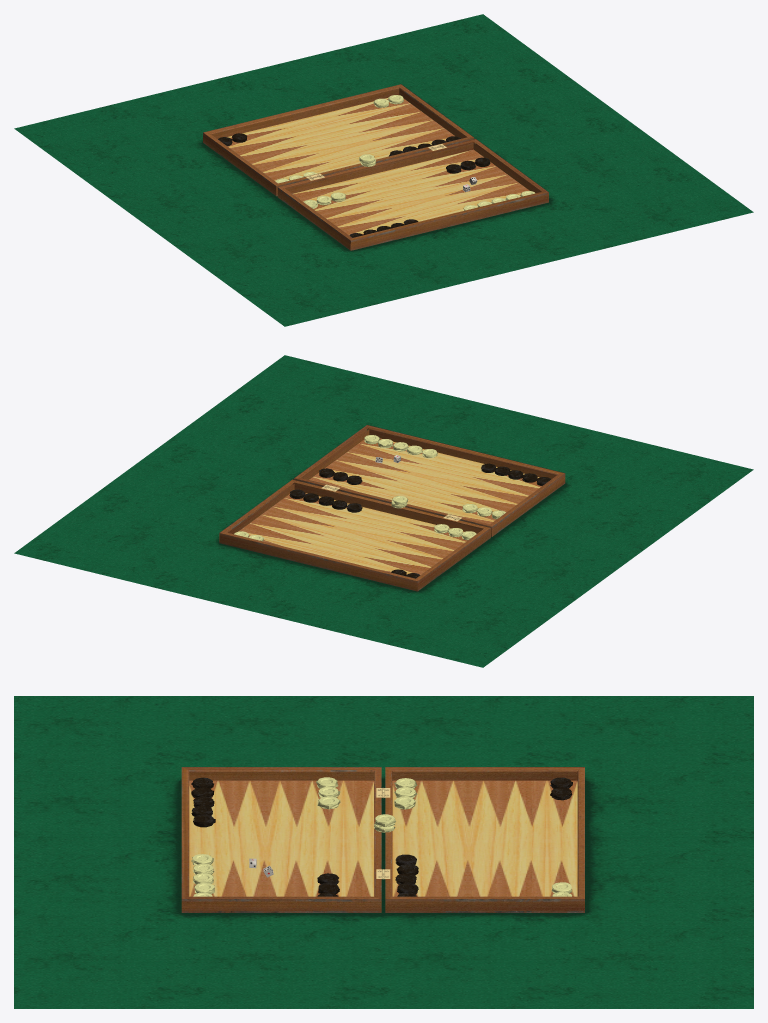
Rendered from backgammon.glb.
3 renders of one model, top to bottom at view 1: azimuth 30°, elevation 25°; view 2: azimuth 150°, elevation 25°; view 3: azimuth 270°, elevation 25°, orthographic. The views are drawn at different scales.
Parts seen in each view (by area): view 1: defaultMaterial.005, defaultMaterial.004, defaultMaterial.002, defaultMaterial.003; view 2: defaultMaterial.005, defaultMaterial.004, defaultMaterial.003, defaultMaterial.002; view 3: defaultMaterial.005, defaultMaterial.004, defaultMaterial.003, defaultMaterial.002.
Boxes of the visible parts, x1,y1,x2,y2 form: defaultMaterial.005: (14, 14, 753, 326); defaultMaterial.004: (203, 84, 548, 250); defaultMaterial.002: (275, 95, 535, 210); defaultMaterial.003: (218, 133, 490, 237); defaultMaterial.005: (14, 355, 753, 667); defaultMaterial.004: (219, 425, 565, 591); defaultMaterial.003: (289, 463, 551, 578); defaultMaterial.002: (234, 435, 505, 541); defaultMaterial.005: (14, 696, 753, 1008); defaultMaterial.004: (181, 767, 584, 912); defaultMaterial.003: (191, 777, 572, 896); defaultMaterial.002: (191, 777, 572, 896).
Bounding box in the file's own units: 2 × 0.0709 × 2.
6 materials, 6 textured.
